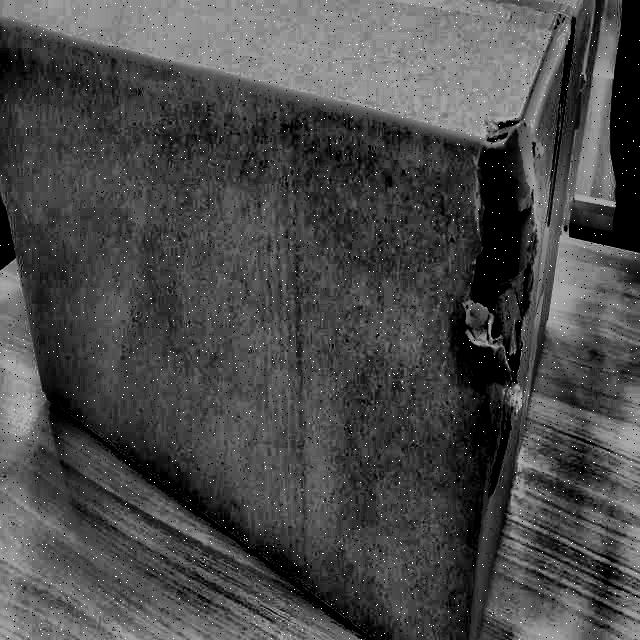box: (1, 0, 602, 639)
hole: (458, 152, 544, 448)
